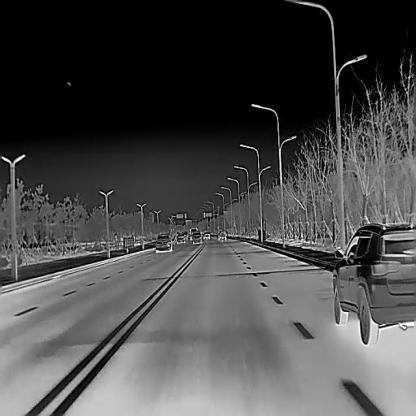car: (332, 221, 416, 345), (155, 233, 172, 252), (217, 230, 227, 240), (192, 232, 201, 243), (176, 233, 185, 243), (203, 232, 211, 240)
